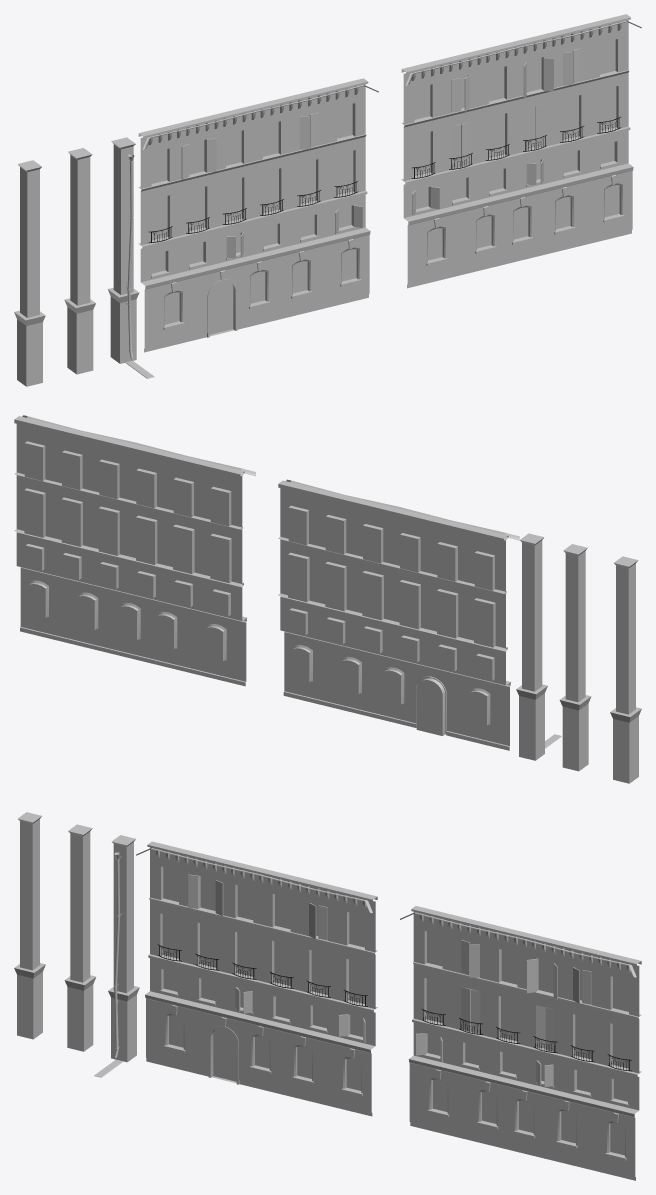
The model's file is Euro_v1_facade_parts.FBX.
The picture shows the model from 3 angles, top to bottom: view 1: azimuth 30°, elevation 25°; view 2: azimuth 150°, elevation 25°; view 3: azimuth 330°, elevation 25°; orthographic projection.
Parts seen in each view (by area): view 1: Euro_v1_facade_D, Euro_v1_facade_T, Euro_v1_column_v2, Euro_v1_column_v3, Euro_v1_column_v1, Forged_fence_v1_D, Euro_v1_drenage, Forged_fence_v1_T; view 2: Euro_v1_facade_T, Euro_v1_facade_D, Euro_v1_column_v2, Euro_v1_column_v1, Euro_v1_column_v3; view 3: Euro_v1_facade_T, Euro_v1_facade_D, Euro_v1_column_v2, Euro_v1_column_v3, Euro_v1_column_v1, Euro_v1_drenage, Forged_fence_v1_D, Forged_fence_v1_T.
Boxes of the visible parts, x1,y1,x2,y2 form: Euro_v1_facade_D: (138,78,378,352); Euro_v1_facade_T: (401,14,641,288); Euro_v1_column_v2: (64,148,95,374); Euro_v1_column_v3: (14,160,45,386); Euro_v1_column_v1: (107,137,139,363); Forged_fence_v1_D: (149,181,358,243); Euro_v1_drenage: (125,154,154,378); Forged_fence_v1_T: (411,117,621,178); Euro_v1_facade_T: (14,415,255,686); Euro_v1_facade_D: (278,479,519,750); Euro_v1_column_v2: (559,544,591,771); Euro_v1_column_v1: (516,533,547,760); Euro_v1_column_v3: (610,556,641,783); Euro_v1_facade_T: (400,906,641,1180); Euro_v1_facade_D: (136,841,377,1116); Euro_v1_column_v2: (64,824,95,1051); Euro_v1_column_v3: (14,812,45,1039); Euro_v1_column_v1: (108,835,139,1062); Euro_v1_drenage: (94,852,123,1077); Forged_fence_v1_D: (157,944,367,1006); Forged_fence_v1_T: (422,1009,631,1071).
Bounding box in the file's own units: 48.09 × 16.05 × 4.57.
